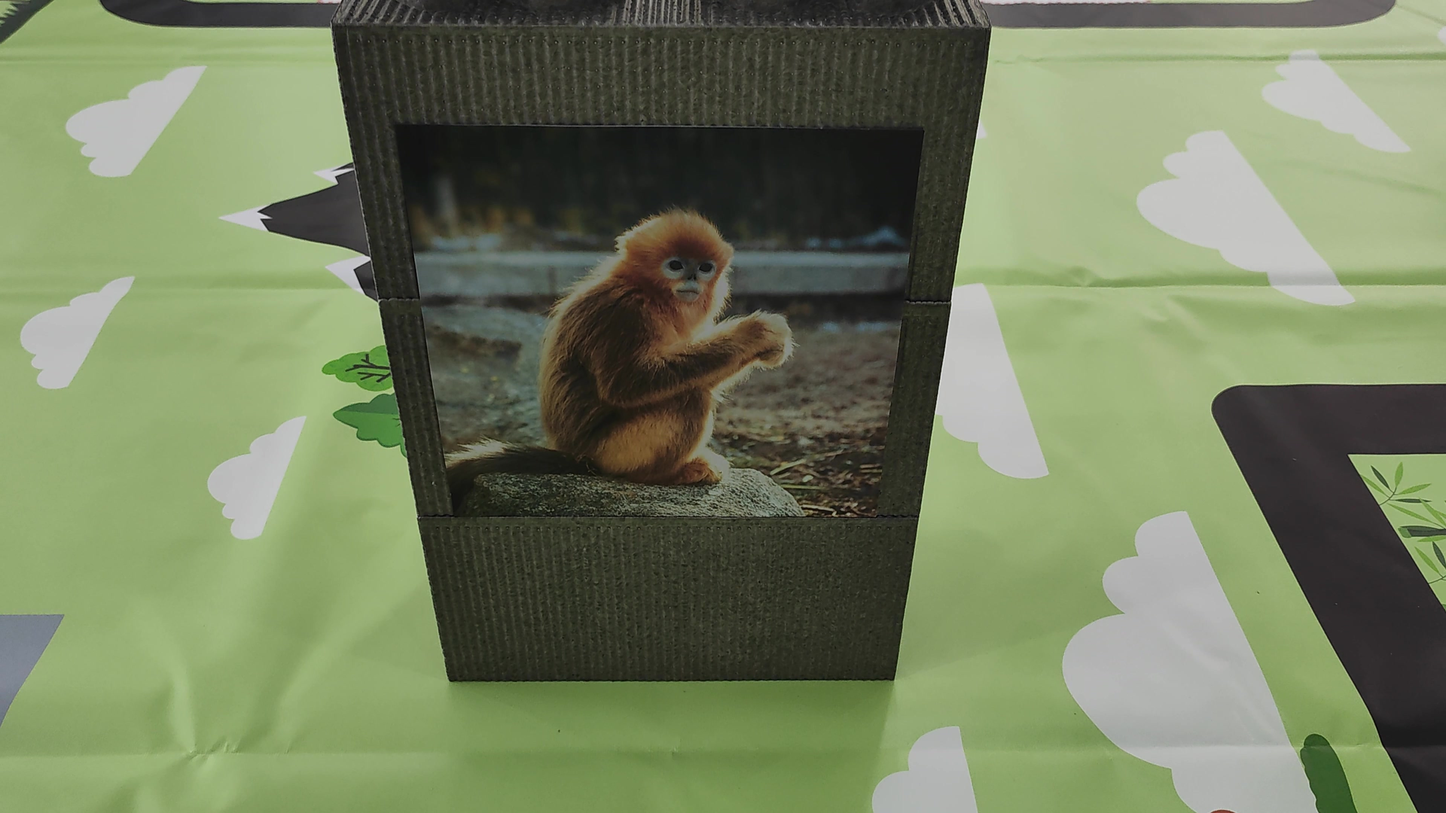monkey: (439, 162, 826, 504)
